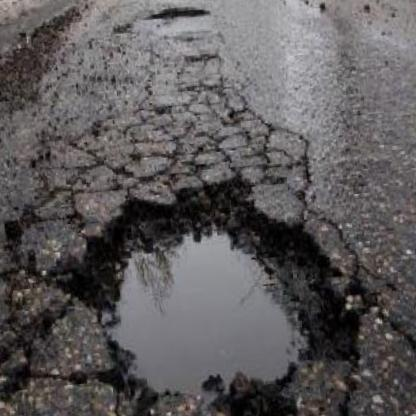pothole: (53, 160, 369, 415), (148, 0, 208, 23)
